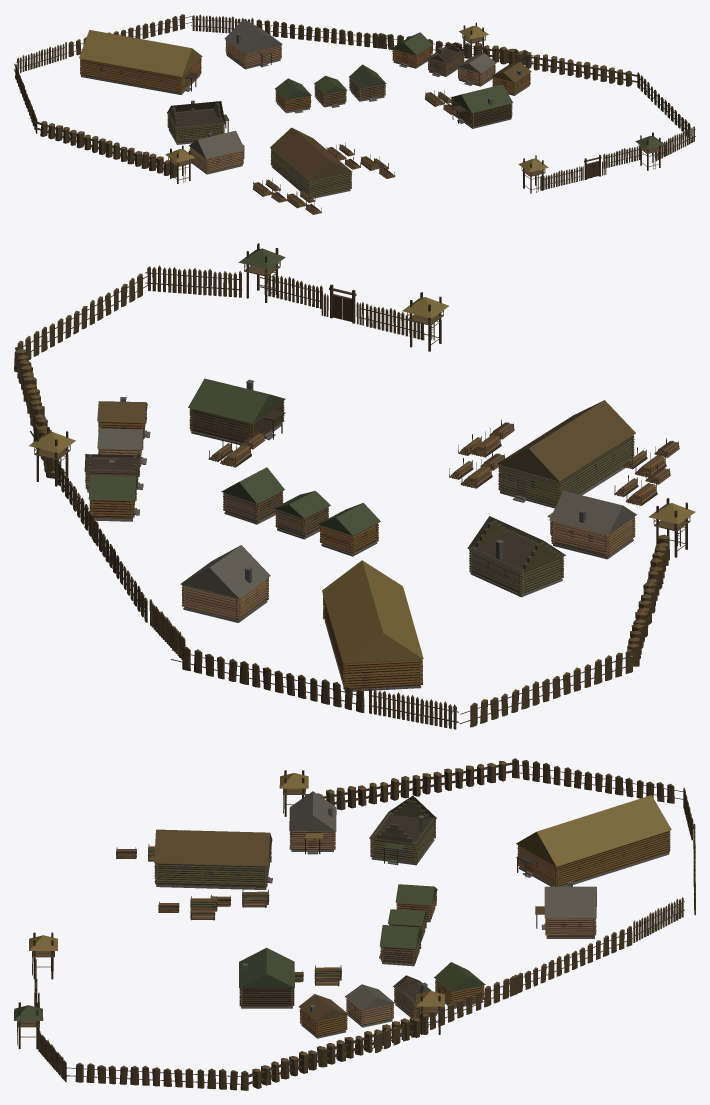
The model's file is elder_moor.glb.
3 views of the same model, one above another, from view 1: azimuth 30°, elevation 25°; view 2: azimuth 150°, elevation 25°; view 3: azimuth 270°, elevation 25° (orthographic). The views are drawn at different scales.
Visible parts, largest first — view 1: Cabin_Longhouse_01, Cabin_Longhouse_02, Palisade_Segment_01.002, Cabin_Medium_01, Palisade_Segment_01.001, Cabin_Medium_04, Cabin_Medium_02, Cabin_Medium_03, Palisade_Segment_02.004, Cabin_Small_01, Cabin_Small_07, Cabin_Small_05 (+18 smaller); view 2: Cabin_Longhouse_01, Cabin_Longhouse_02, Cabin_Medium_01, Cabin_Medium_04, Cabin_Medium_02, Cabin_Medium_03, Palisade_Segment_02.003, Palisade_Segment_02.001, Cabin_Small_07, Cabin_Small_05, Palisade_Segment_02, Cabin_Small_01 (+18 smaller); view 3: Cabin_Longhouse_01, Cabin_Longhouse_02, Palisade_Segment_01.001, Cabin_Medium_01, Palisade_Segment_01.002, Cabin_Medium_04, Cabin_Medium_02, Palisade_Segment_02, Cabin_Medium_03, Palisade_Segment_02.001, Palisade_Segment_02.004, Palisade_Segment_02.005 (+13 smaller).
Part boxes in pixels (bbox=[...]): Cabin_Longhouse_01: bbox=[79, 30, 202, 94]; Cabin_Longhouse_02: bbox=[270, 127, 352, 198]; Palisade_Segment_01.002: bbox=[34, 121, 176, 178]; Cabin_Medium_01: bbox=[167, 100, 229, 144]; Palisade_Segment_01.001: bbox=[476, 43, 637, 86]; Cabin_Medium_04: bbox=[450, 84, 513, 128]; Cabin_Medium_02: bbox=[224, 19, 282, 69]; Cabin_Medium_03: bbox=[189, 130, 244, 174]; Palisade_Segment_02.004: bbox=[256, 19, 393, 48]; Cabin_Small_01: bbox=[391, 32, 432, 68]; Cabin_Small_07: bbox=[348, 64, 386, 101]; Cabin_Small_05: bbox=[275, 78, 311, 113]; Cabin_Longhouse_01: bbox=[322, 560, 423, 691]; Cabin_Longhouse_02: bbox=[497, 400, 635, 508]; Cabin_Medium_01: bbox=[467, 516, 565, 597]; Cabin_Medium_04: bbox=[188, 378, 285, 444]; Cabin_Medium_02: bbox=[180, 545, 270, 622]; Cabin_Medium_03: bbox=[547, 491, 636, 559]; Palisade_Segment_02.003: bbox=[171, 646, 364, 712]; Palisade_Segment_02.001: bbox=[459, 649, 632, 727]; Cabin_Small_07: bbox=[221, 467, 284, 524]; Cabin_Small_05: bbox=[318, 503, 380, 556]; Palisade_Segment_02: bbox=[17, 273, 150, 359]; Cabin_Small_01: bbox=[88, 475, 139, 521]; Cabin_Longhouse_01: bbox=[516, 795, 671, 886]; Cabin_Longhouse_02: bbox=[154, 829, 272, 889]; Palisade_Segment_01.001: bbox=[244, 1013, 428, 1088]; Cabin_Medium_01: bbox=[369, 795, 436, 865]; Palisade_Segment_01.002: bbox=[305, 761, 514, 810]; Cabin_Medium_04: bbox=[239, 947, 294, 1008]; Cabin_Medium_02: bbox=[535, 881, 596, 938]; Palisade_Segment_02: bbox=[64, 1063, 248, 1090]; Cabin_Medium_03: bbox=[289, 791, 336, 854]; Palisade_Segment_02.001: bbox=[512, 758, 683, 803]; Palisade_Segment_02.004: bbox=[509, 926, 632, 996]; Palisade_Segment_02.005: bbox=[366, 974, 518, 1052].
Bounding box in the file's own units: 106 × 7.85 × 96.34.
